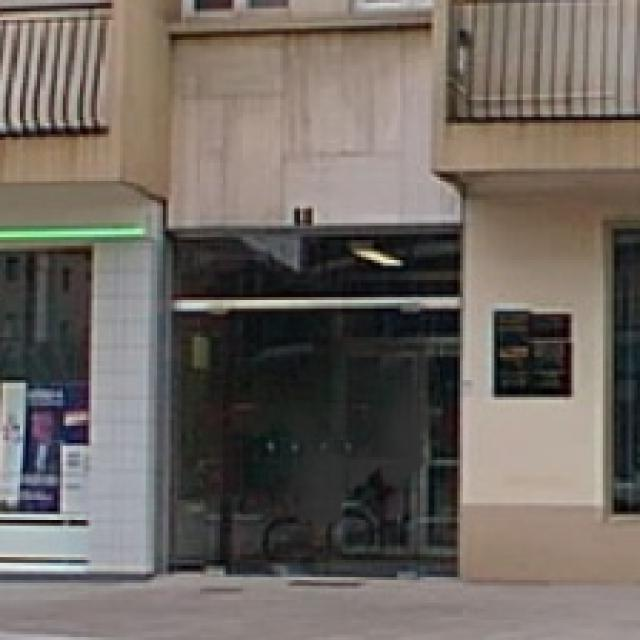Smoke: (220, 302, 446, 538)
